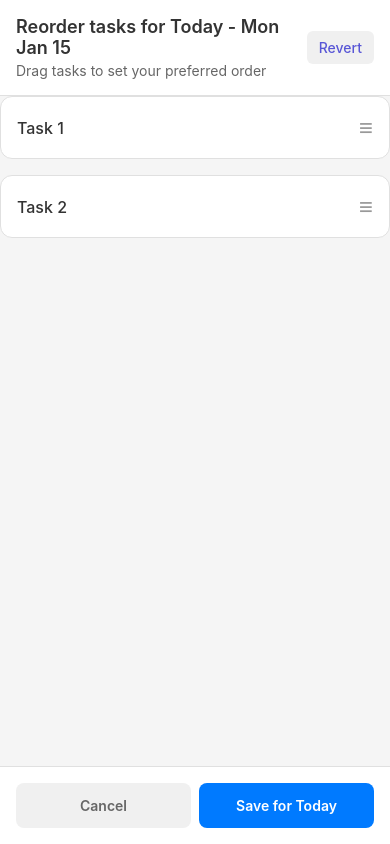
Scenario: ReorderTasksScreen › disables save buttons while saving
This screenshot has width=390, height=844.
Step 1. Click the text "Save for Today" → {"x": 286, "y": 806}, box [236,797,337,814]
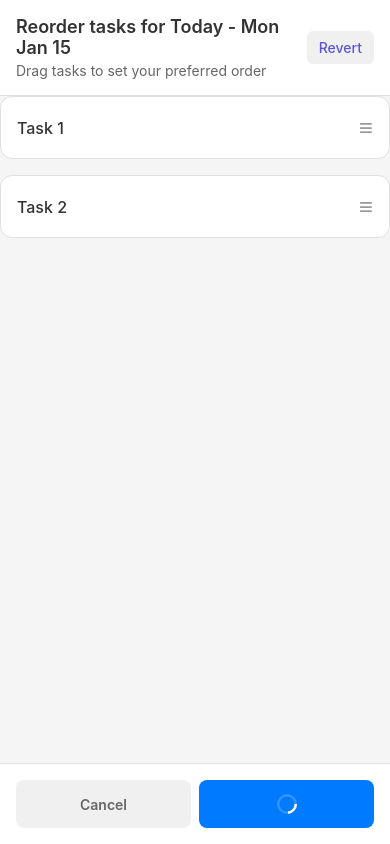
Expected: the progress indicator with test id "save-loading" is shown, [276,794,296,814]
